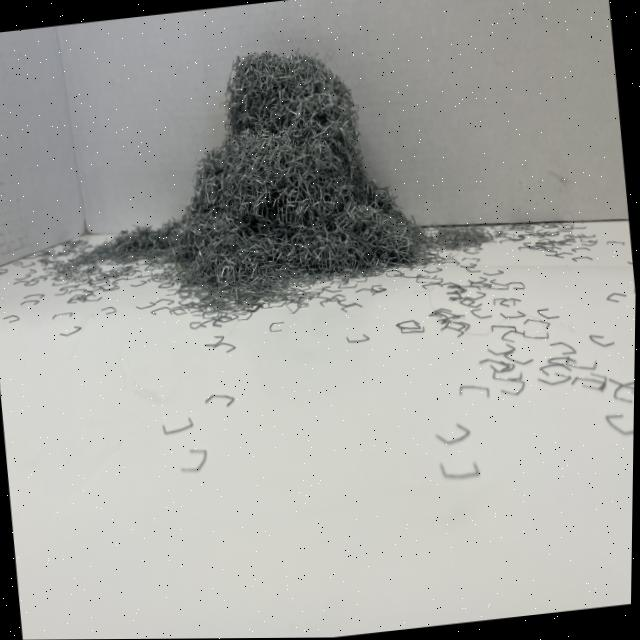staples: (92, 31, 434, 306)
